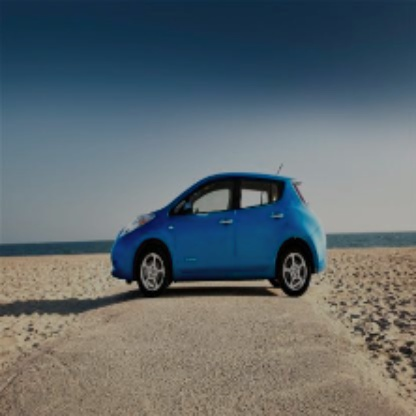Vehicle: (108, 162, 326, 298)
